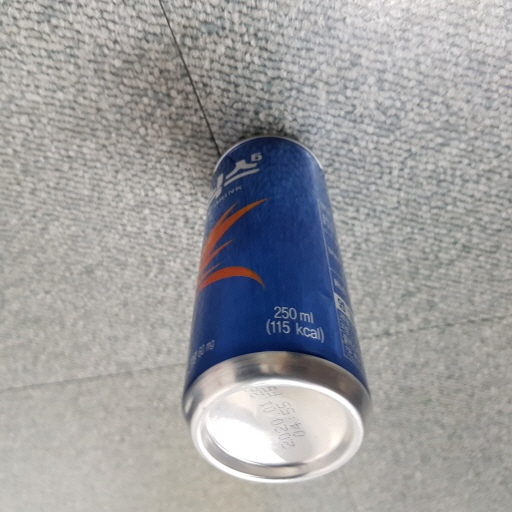Metal_0: (179, 132, 372, 481)
